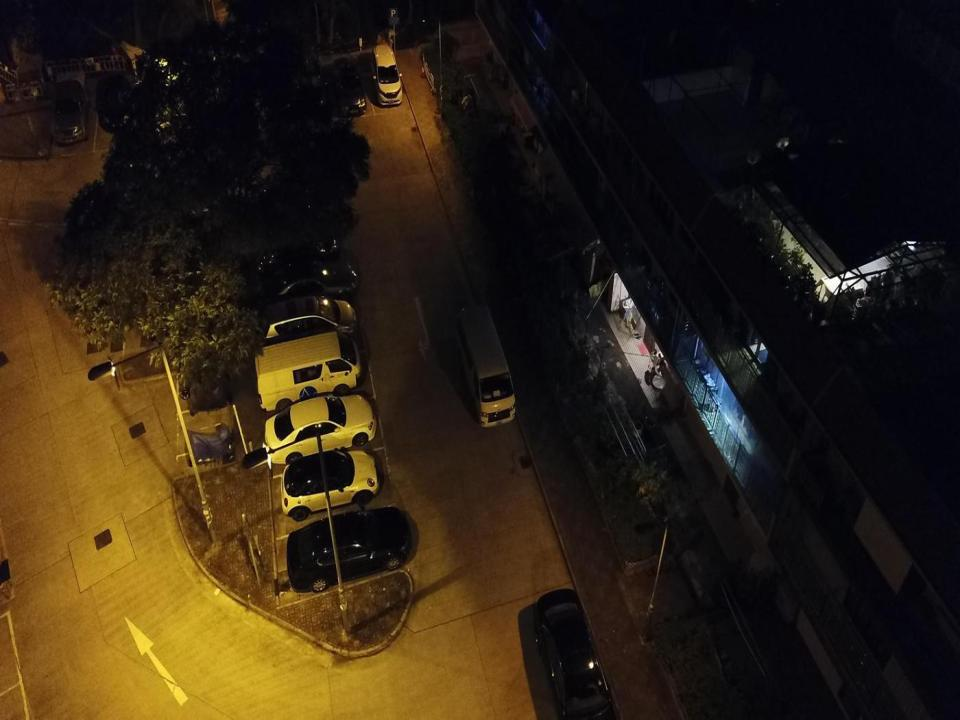bus: (455, 303, 517, 430)
car: (286, 504, 414, 593), (535, 587, 618, 719), (264, 392, 377, 468), (280, 446, 380, 522), (257, 294, 358, 360), (261, 254, 360, 320), (330, 57, 368, 117), (370, 43, 403, 107)
van: (254, 330, 363, 415)
